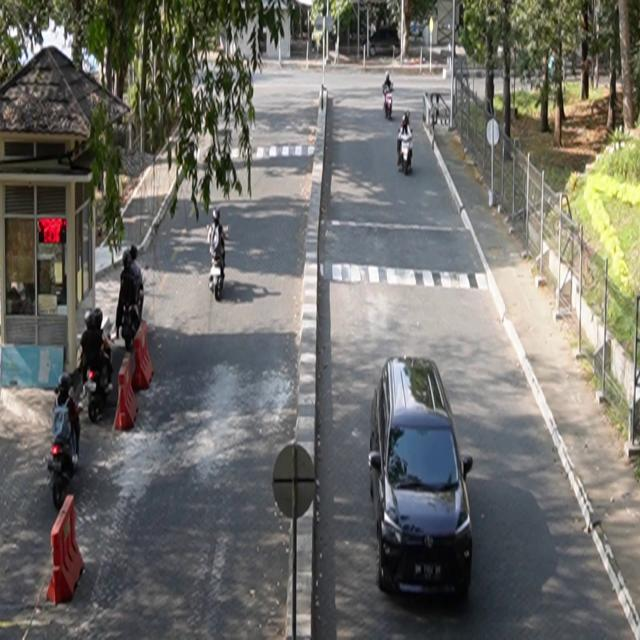car: (368, 356, 475, 602)
